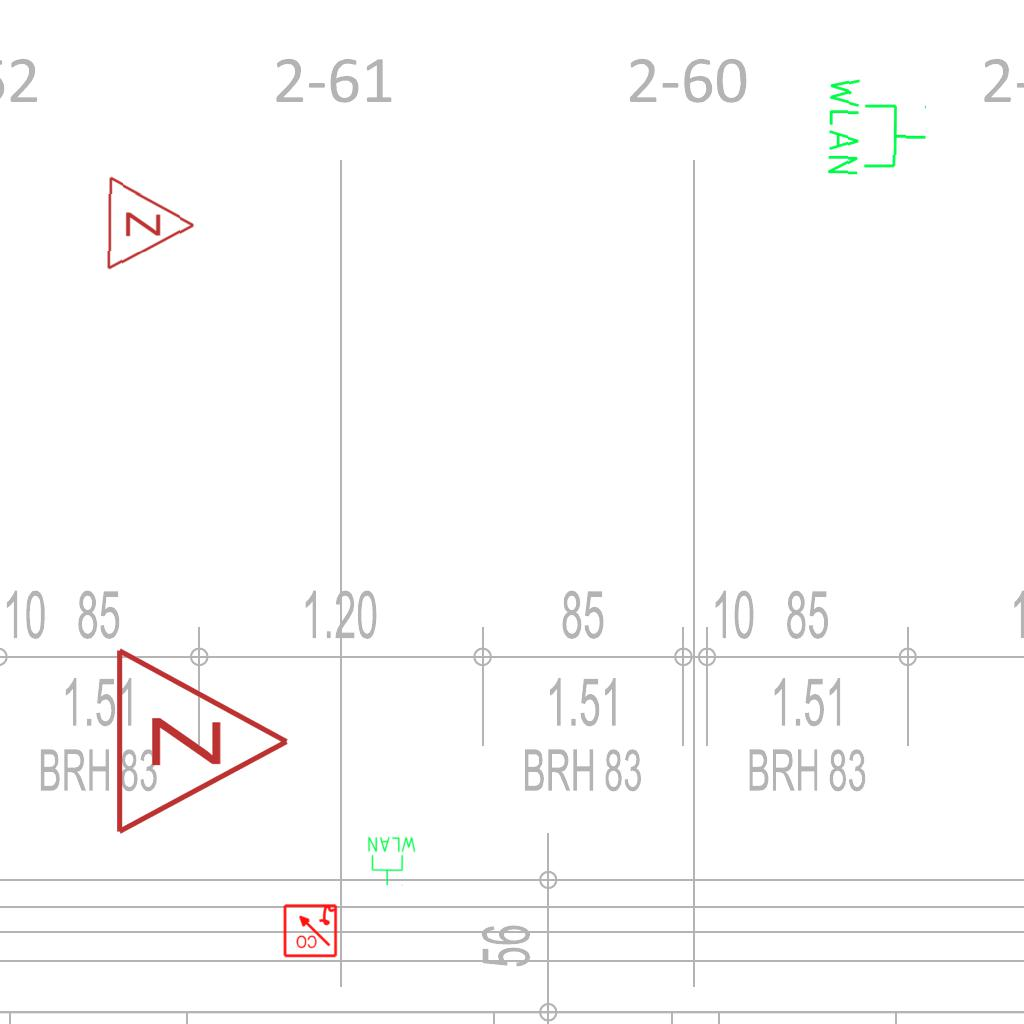ROA_Rauchmelder_optisch_mit_Signalgeber_(Sockelsirene): (282, 902, 338, 958)
WLAN: (824, 73, 930, 180), (366, 835, 418, 887)
Zimmersignalleuchte: (102, 641, 302, 837), (100, 173, 202, 273)
